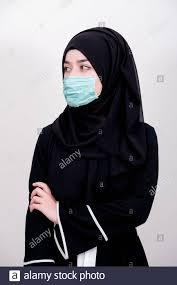Wearing Mask: (55, 18, 143, 115)
